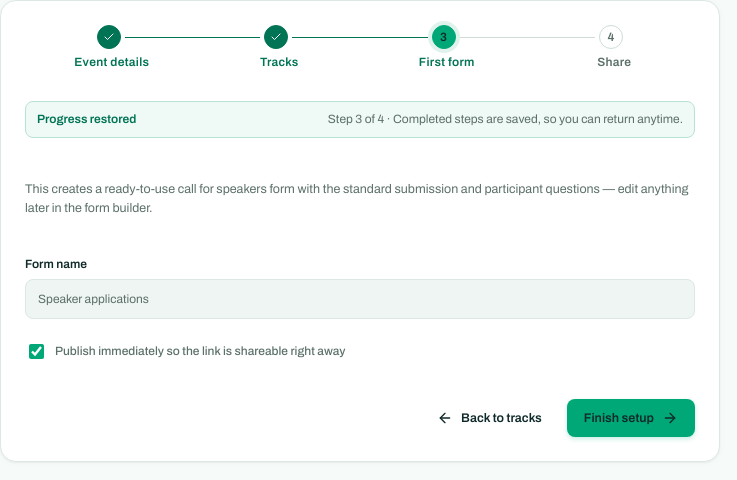
Test: first-form publication preflight › retries a server failure before showing the ready handoff
Click the button "Finish setup" at [631, 418], box [567,399,695,437]
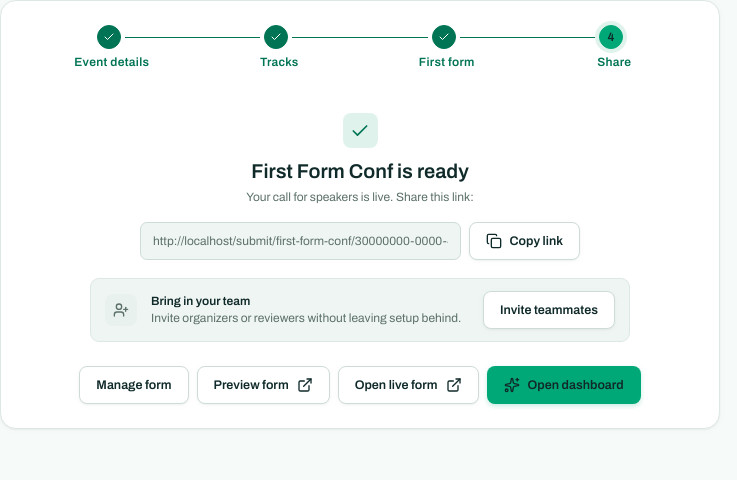
expect the text "First Form Conf is ready" is shown: met, box [251,160,469,182]
